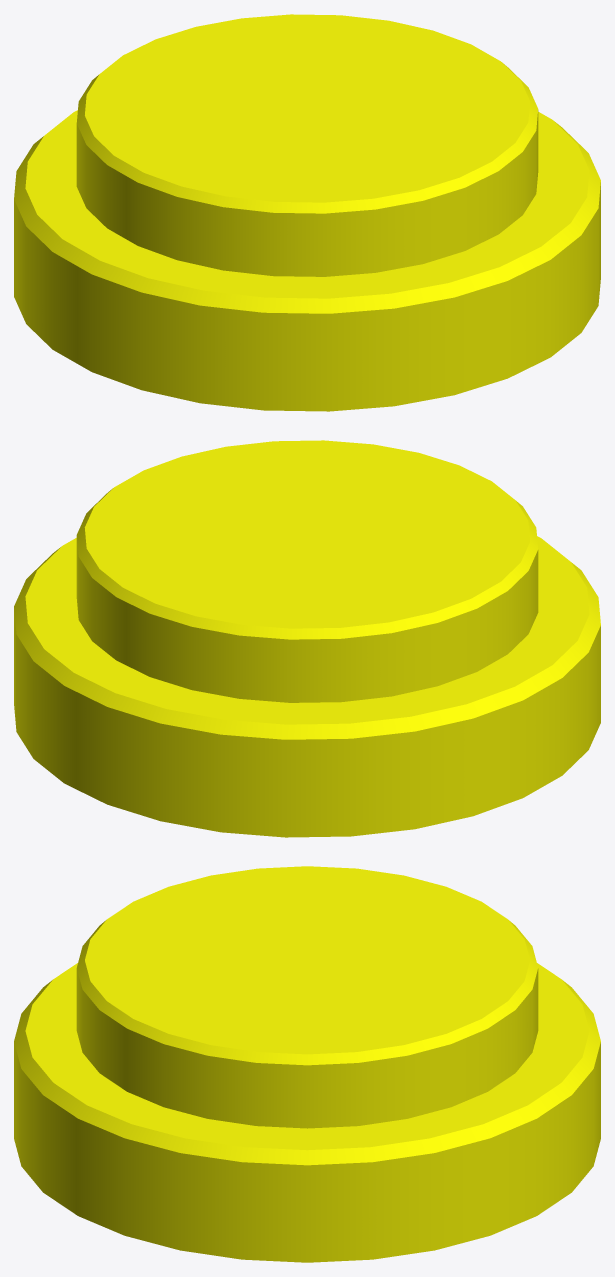
The picture shows the model from 3 angles, top to bottom: view 1: azimuth 30°, elevation 25°; view 2: azimuth 150°, elevation 25°; view 3: azimuth 270°, elevation 25°; orthographic projection.
Visible parts, largest first — view 1: LaserButtonOnly, LaserButton_base; view 2: LaserButtonOnly, LaserButton_base; view 3: LaserButtonOnly, LaserButton_base.
Part boxes in pixels (left/top/right/bottom): LaserButtonOnly: left=76, top=14, right=538, bottom=276; LaserButton_base: left=14, top=110, right=600, bottom=411; LaserButtonOnly: left=76, top=440, right=538, bottom=702; LaserButton_base: left=14, top=536, right=600, bottom=837; LaserButtonOnly: left=76, top=866, right=538, bottom=1128; LaserButton_base: left=14, top=963, right=600, bottom=1262.
Size of the model in its own units: 0.012 by 0.00401 by 0.012.
1 material, 1 textured.
